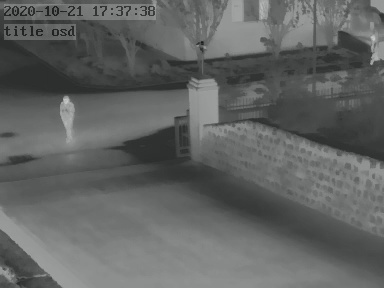person: (59, 94, 76, 140)
